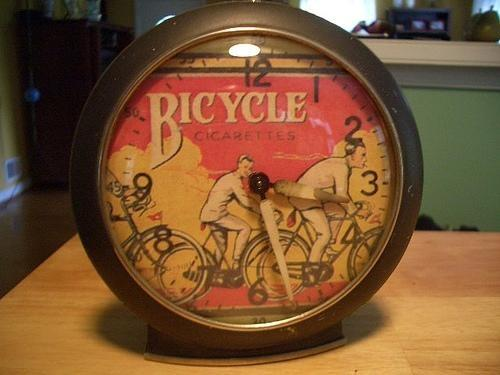bicycle: (106, 191, 207, 305), (159, 230, 310, 300)
